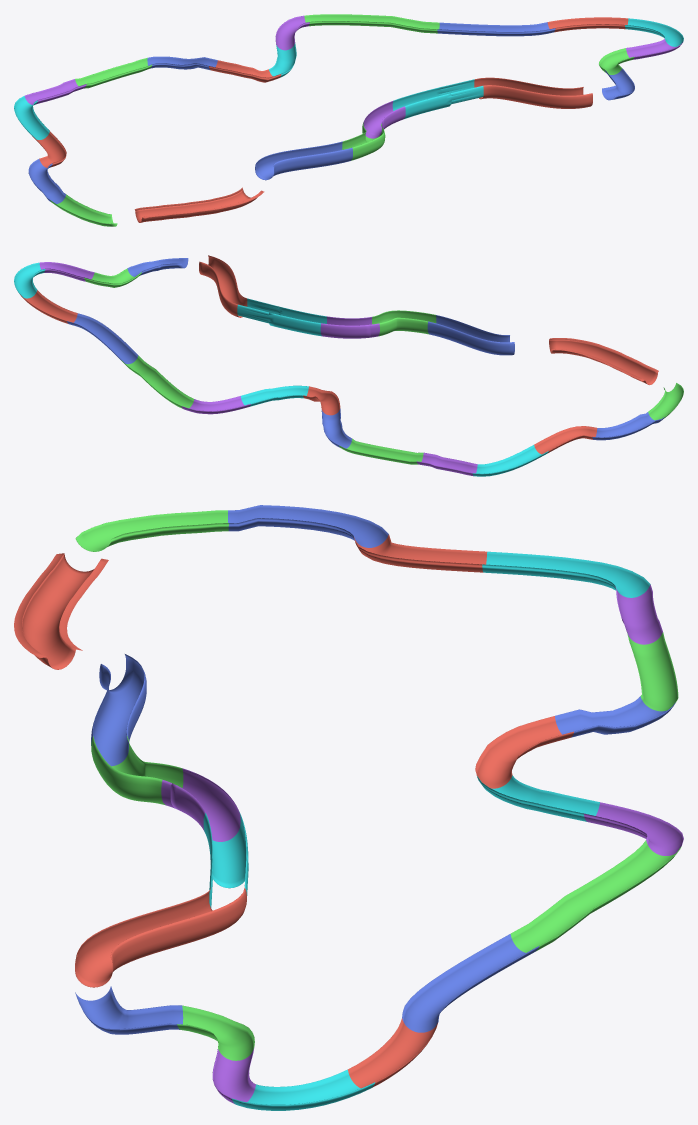
The model's file is mapa7hams.glb.
The picture shows the model from 3 angles, top to bottom: view 1: azimuth 30°, elevation 25°; view 2: azimuth 150°, elevation 25°; view 3: azimuth 270°, elevation 25°; orthographic projection. The views are drawn at different scales.
Visible parts, largest first — view 1: BézierCurve; view 2: BézierCurve; view 3: BézierCurve.
Part boxes in pixels (x1,y1,x2,y2): BézierCurve: [14, 14, 683, 226]; BézierCurve: [14, 255, 683, 476]; BézierCurve: [14, 505, 683, 1110].
Bounding box in the file's own units: 173 × 5.14 × 81.57.
